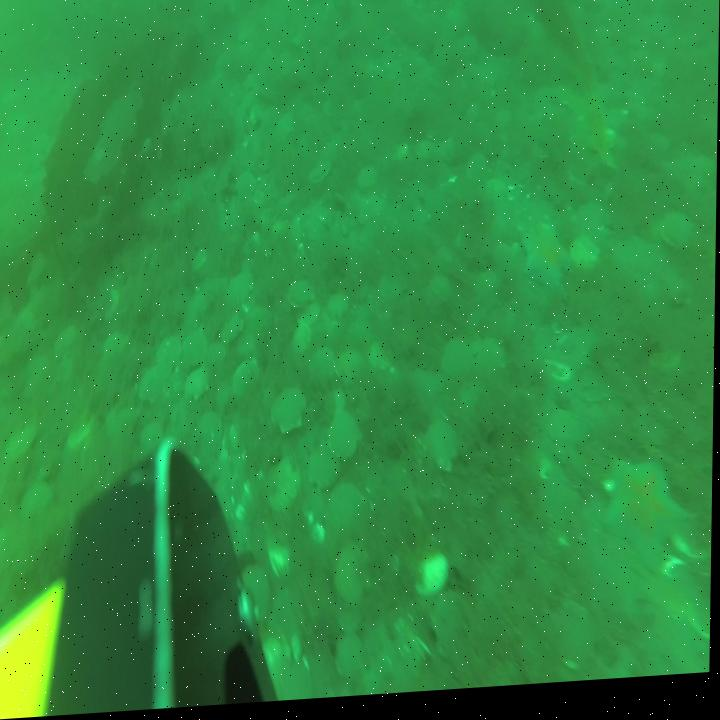scallop: (335, 545, 374, 610), (238, 566, 275, 628), (266, 458, 304, 517), (425, 424, 462, 482), (270, 385, 309, 440), (414, 553, 454, 606), (328, 412, 365, 467), (308, 442, 343, 497), (658, 216, 696, 265), (332, 482, 368, 530), (6, 421, 43, 467), (548, 413, 583, 459), (334, 639, 368, 685), (475, 343, 509, 389), (442, 344, 476, 388), (107, 400, 140, 444), (20, 481, 56, 520), (139, 364, 168, 408), (310, 347, 338, 391), (66, 419, 99, 456), (426, 279, 455, 320), (182, 328, 210, 370), (233, 362, 261, 404), (461, 383, 490, 423), (474, 272, 502, 313), (573, 240, 599, 284), (197, 412, 225, 452), (336, 351, 364, 391), (185, 366, 213, 405), (101, 329, 132, 364), (156, 336, 184, 374), (379, 276, 411, 308), (228, 274, 256, 310), (336, 606, 364, 641), (54, 324, 79, 362), (369, 343, 395, 379), (287, 282, 317, 313), (235, 170, 260, 204), (220, 316, 245, 350), (467, 157, 490, 191), (293, 323, 314, 359), (297, 303, 323, 332), (328, 295, 353, 324), (357, 169, 379, 201), (307, 162, 332, 190), (494, 248, 516, 278), (205, 342, 228, 370), (437, 142, 459, 170), (415, 142, 436, 168), (191, 247, 208, 279), (394, 145, 409, 170)
starfish: (604, 453, 691, 584), (520, 225, 574, 302)
